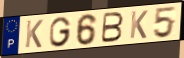5: (153, 5, 178, 39)
6: (76, 12, 98, 46)
B: (100, 11, 125, 44)
G: (48, 16, 73, 48)
K: (24, 19, 44, 50), (129, 10, 149, 40)
